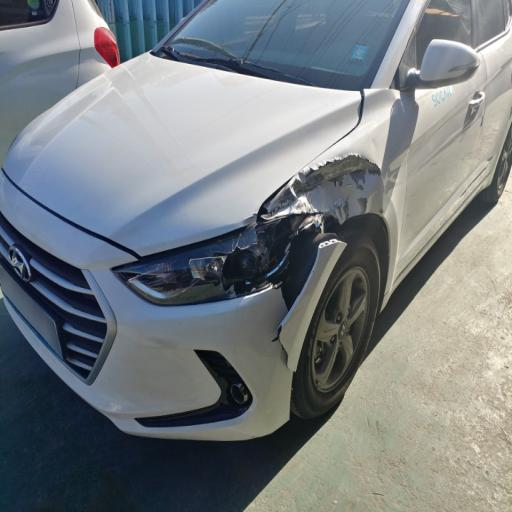broken: (166, 140, 429, 364)
